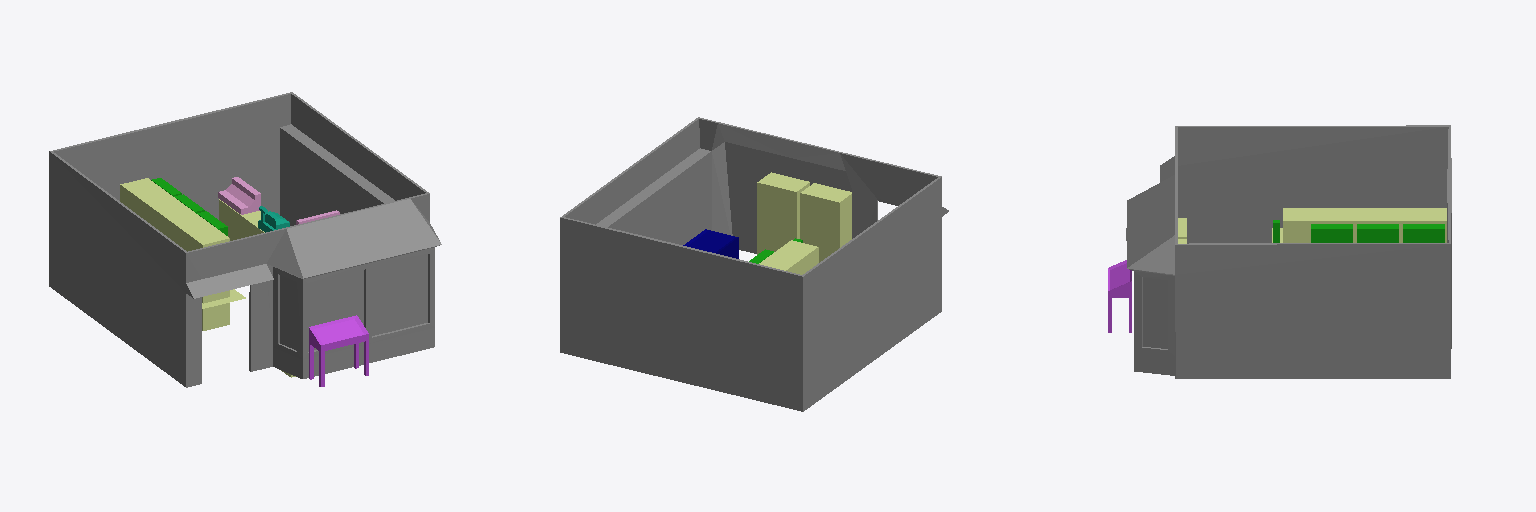
The model's file is Shopplaceholder.obj.
3 renders of one model, left to right at view 1: azimuth 30°, elevation 25°; view 2: azimuth 150°, elevation 25°; view 3: azimuth 270°, elevation 25°, orthographic.
Parts seen in each view (by area): view 1: Shop, Shelf, Box006, Box005, Box001; view 2: Shop, Box002, Box003, Shelf, Freezer; view 3: Shop, Shelf, Box006, Box007, shopitem2, shopitem003.
Part boxes in pixels (x1,y1,x2,y2): Shop: (49,92,441,387); Shelf: (120,178,245,330); Box006: (309,315,368,386); Box005: (218,177,260,214); Box001: (219,199,264,240); Shop: (560,117,948,411); Box002: (800,183,851,262); Box003: (757,172,809,254); Shelf: (759,240,818,274); Freezer: (683,229,738,258); Shop: (1126,125,1451,378); Shelf: (1272,208,1446,242); Box006: (1108,260,1131,332); Box007: (1403,224,1444,242); shopitem2: (1357,224,1398,242); shopitem003: (1311,224,1352,242).
Bounding box in the file's own units: 734 × 410 × 892.